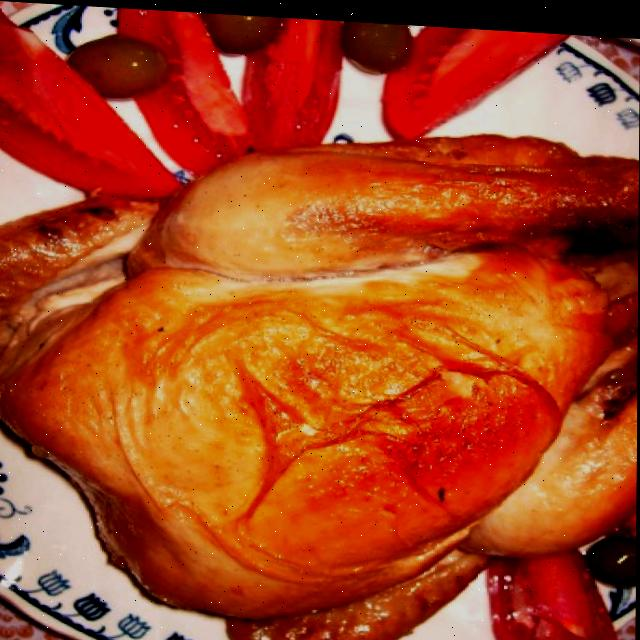鸡肉料理 含炸鸡: (0, 100, 639, 640)
